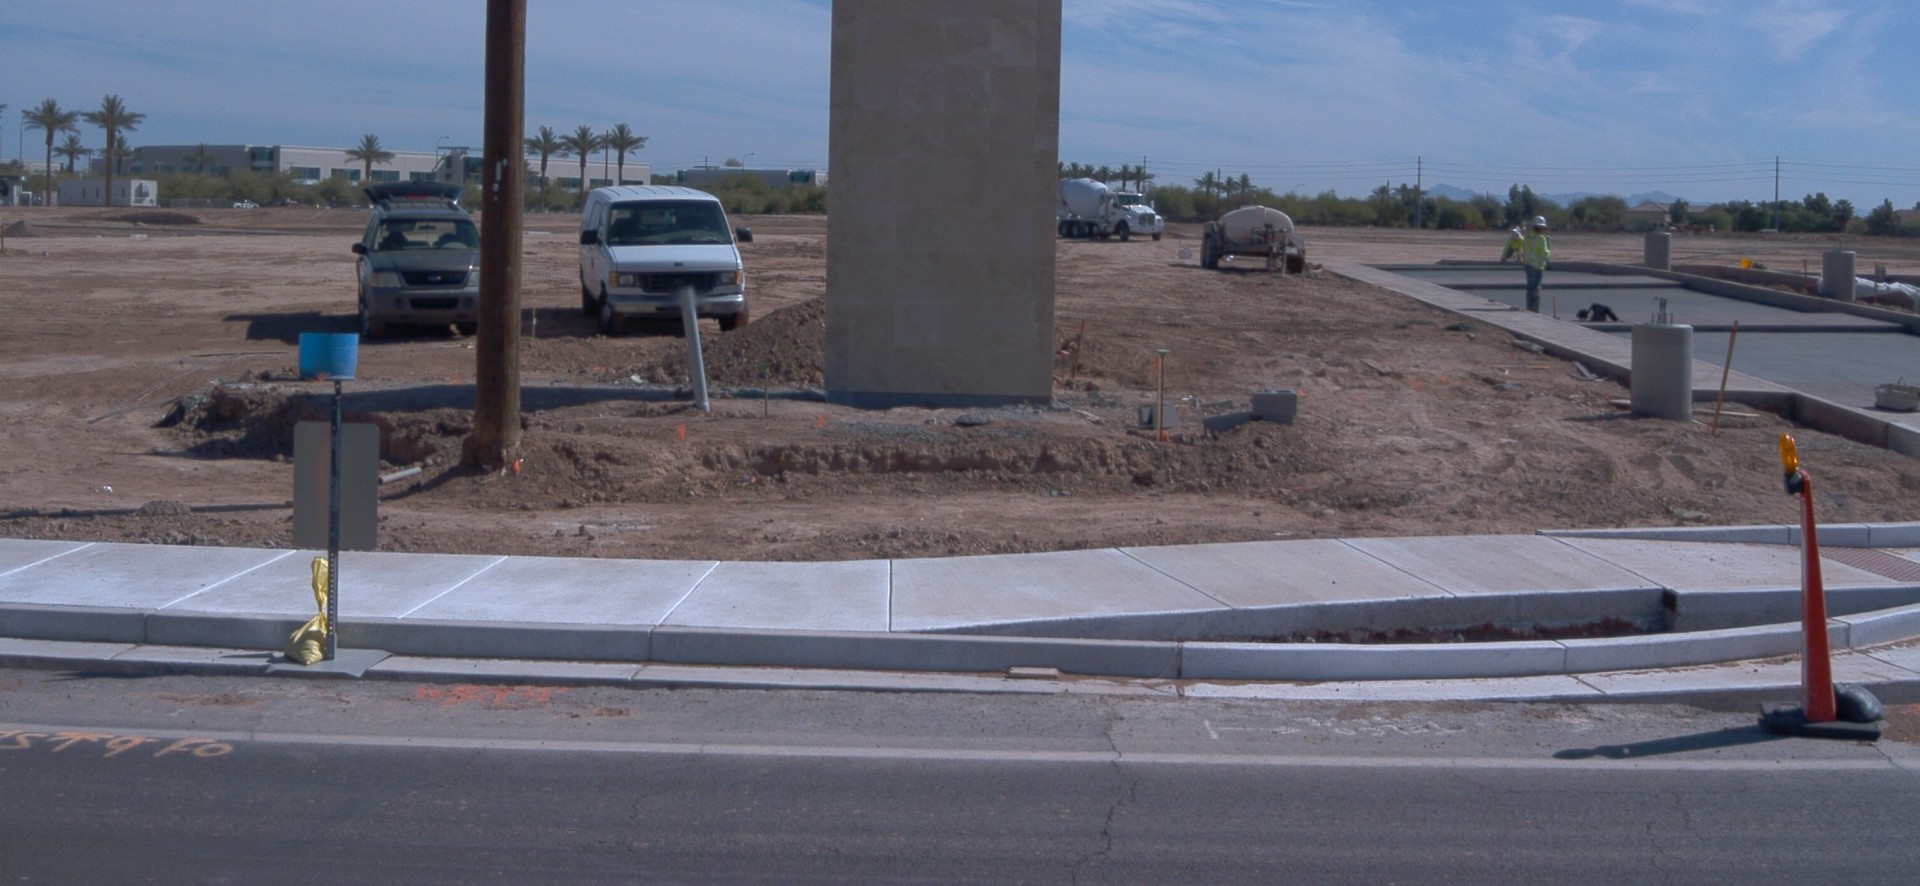TYPE_PEDESTRIAN: (1521, 213, 1553, 314), (1498, 225, 1528, 263)
TYPE_VEHICLE: (577, 181, 752, 338), (351, 177, 481, 342), (1200, 203, 1308, 279), (1056, 177, 1167, 243)
